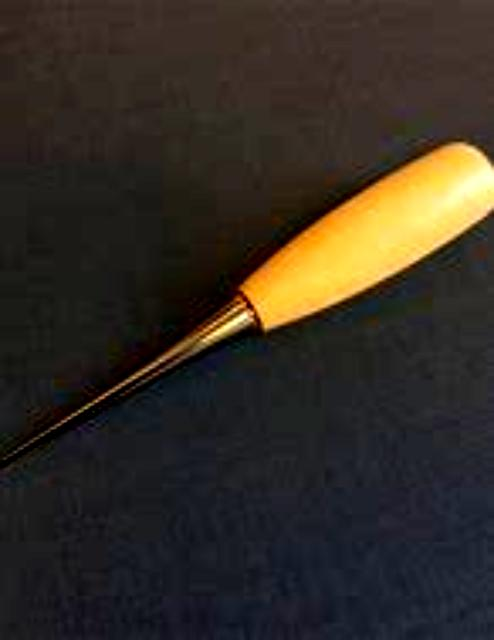ice pick: (0, 138, 494, 464)
